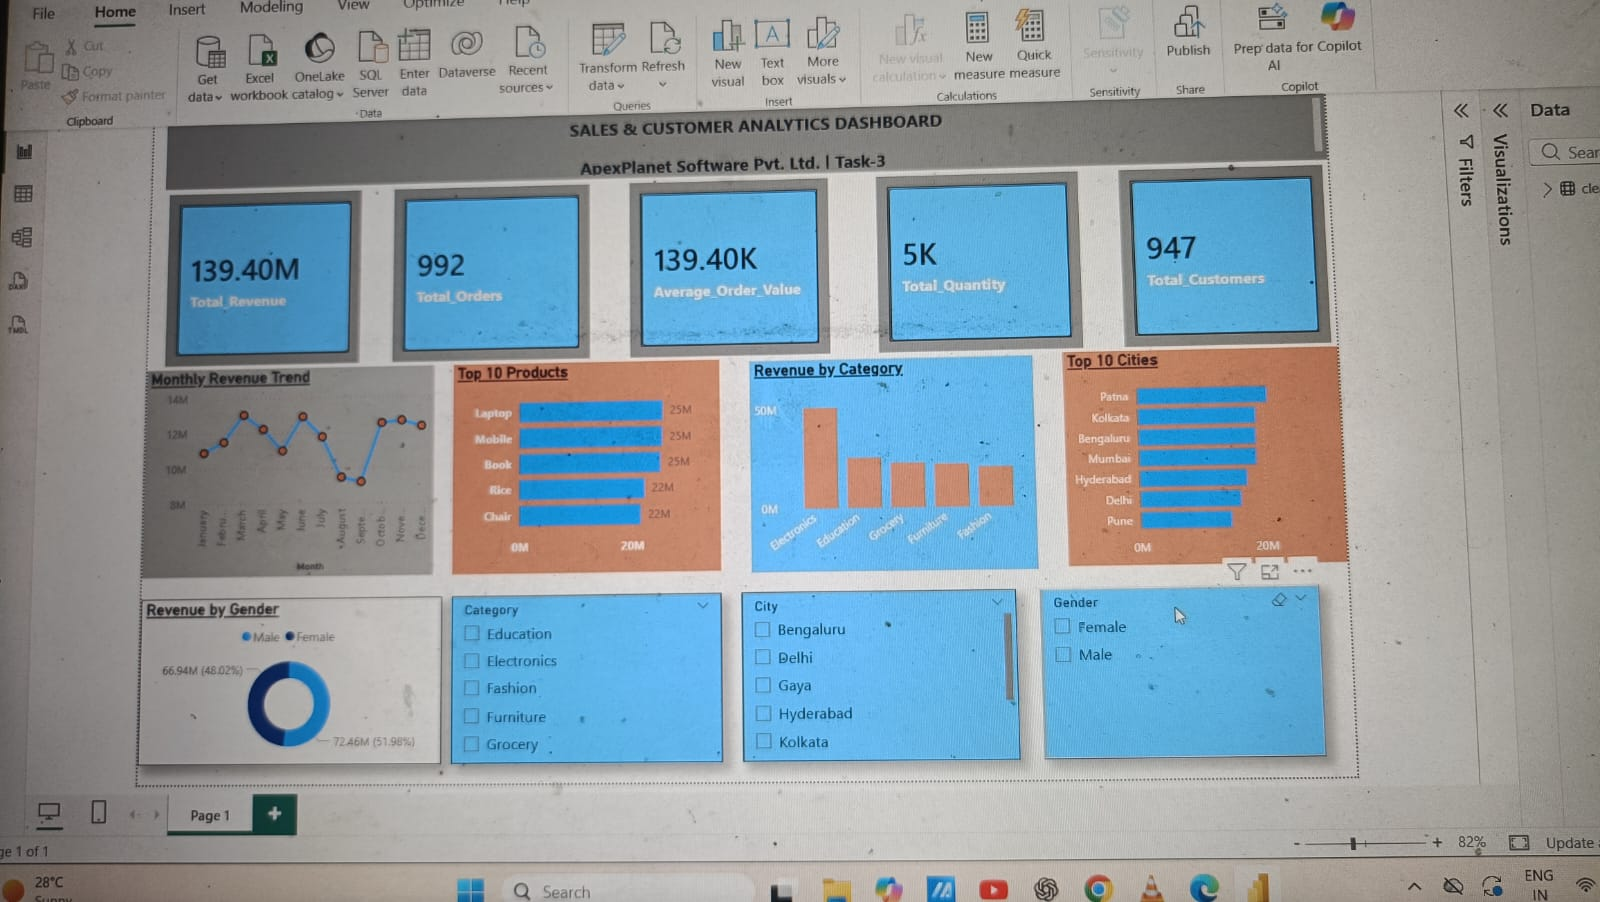

Layout of this report page (visuals, bound fields, positions):
{"tool":"powerbi","page":{"name":"Page 1","canvas":[1280,720],"ordinal":0},"visuals":[{"type":"textbox","box":[15.1,0,1265.2,72.7],"z":0},{"type":"cardVisual","fields":{"Data":["Sum(cleaned_dataset.Total_Sales)"]},"box":[15.2,73.4,227,202.1],"z":1},{"type":"cardVisual","fields":{"Data":["Count(cleaned_dataset.Order_ID)"]},"box":[267.1,73.4,227,202.1],"z":2},{"type":"cardVisual","fields":{"Data":["Avg(cleaned_dataset.Total_Sales)"]},"box":[526,73.4,227,202.1],"z":3},{"type":"cardVisual","fields":{"Data":["Sum(cleaned_dataset.Quantity)"]},"box":[793.1,73.4,227,202.1],"z":4},{"type":"cardVisual","fields":{"Data":["Count(cleaned_dataset.Customer_ID)"]},"box":[1053.3,73.4,227,202.1],"z":5},{"type":"lineChart","title":"Monthly Revenue Trend","fields":{"Y":["Sum(cleaned_dataset.Total_Sales)"],"Category":["cleaned_dataset.Order_Date.Variation.Date Hierarchy.Month"]},"box":[0,274.4,318.4,226.4],"z":6},{"type":"clusteredBarChart","title":"Top 10 Products","fields":{"Category":["cleaned_dataset.Product"],"Y":["Sum(cleaned_dataset.Total_Sales)"]},"box":[338.9,274.4,288.2,226.4],"z":7},{"type":"clusteredColumnChart","title":"Revenue by Category","fields":{"Category":["cleaned_dataset.Category"],"Y":["Sum(cleaned_dataset.Total_Sales)"]},"box":[658.7,275.8,301.9,226.4],"z":8},{"type":"clusteredBarChart","title":"Top 10 Cities","fields":{"Category":["cleaned_dataset.City"],"Y":["Sum(cleaned_dataset.Total_Sales)"]},"box":[992.1,274.4,288.2,226.4],"z":9},{"type":"donutChart","title":"Revenue by Gender","fields":{"Category":["cleaned_dataset.Gender"],"Y":["Sum(cleaned_dataset.Total_Sales)"]},"box":[0,522.8,328,175.6],"z":10},{"type":"slicer","title":" ","fields":{"Values":["cleaned_dataset.Category"]},"box":[338.9,522.8,288.2,175.6],"z":11},{"type":"slicer","title":" ","fields":{"Values":["cleaned_dataset.City"]},"box":[647.7,522.8,288.2,175.6],"z":12},{"type":"slicer","title":" ","fields":{"Values":["cleaned_dataset.Gender"]},"box":[960.6,522.8,288.2,175.6],"z":13}]}

Visuals, with their boxes on the page's 1280x720 design canvas (x1, y1, x2, y2). These are canvas units, not pixel positions in the 1600x902 screenshot, which may show the page scaled, cropped or inside an application window:
textbox: 15 0 1280 73
cardVisual - Sum(cleaned_dataset.Total_Sales): 15 73 242 276
cardVisual - Count(cleaned_dataset.Order_ID): 267 73 494 276
cardVisual - Avg(cleaned_dataset.Total_Sales): 526 73 753 276
cardVisual - Sum(cleaned_dataset.Quantity): 793 73 1020 276
cardVisual - Count(cleaned_dataset.Customer_ID): 1053 73 1280 276
"Monthly Revenue Trend" lineChart: 0 274 318 501
"Top 10 Products" clusteredBarChart: 339 274 627 501
"Revenue by Category" clusteredColumnChart: 659 276 961 502
"Top 10 Cities" clusteredBarChart: 992 274 1280 501
"Revenue by Gender" donutChart: 0 523 328 698
" " slicer: 339 523 627 698
" " slicer: 648 523 936 698
" " slicer: 961 523 1249 698
